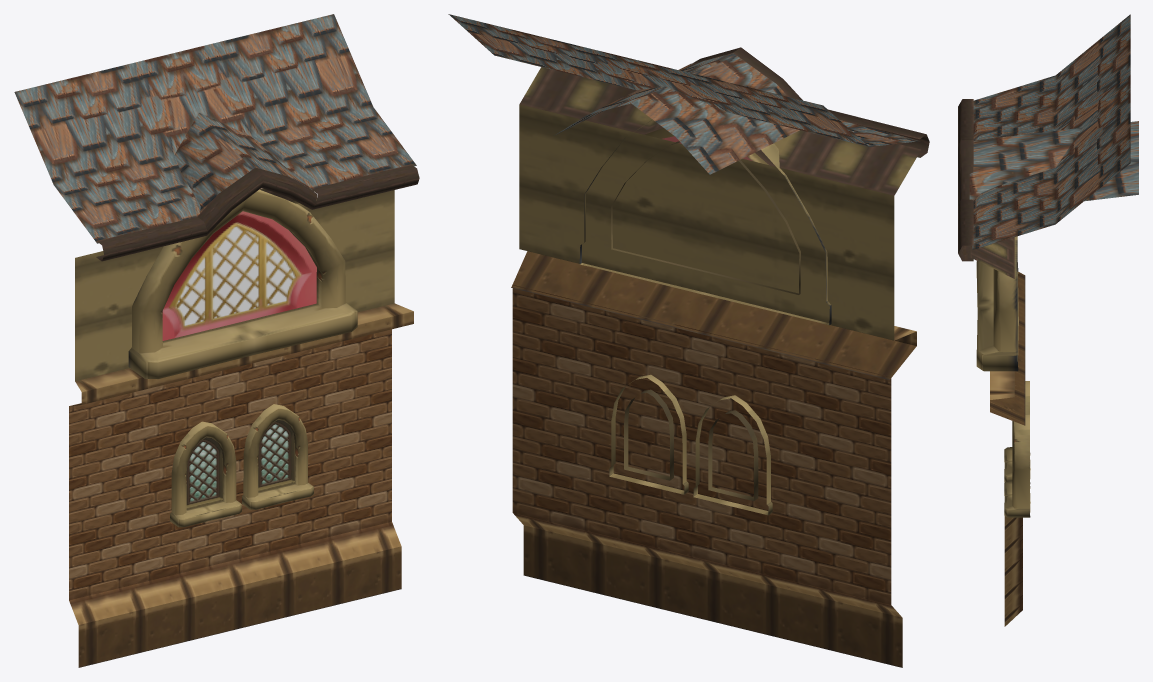
File: external wall4.FBX
3 renders of one model, left to right at view 1: azimuth 30°, elevation 25°; view 2: azimuth 150°, elevation 25°; view 3: azimuth 270°, elevation 25°, orthographic. The views are drawn at different scales.
Parts seen in each view (by area): view 1: external wall4; view 2: external wall4; view 3: external wall4.
Boxes of the visible parts, x1,y1,x2,y2 form: external wall4: (14, 14, 419, 667); external wall4: (448, 14, 929, 667); external wall4: (958, 14, 1138, 626).
Bounding box in the file's own units: 1086 × 1649 × 536.
